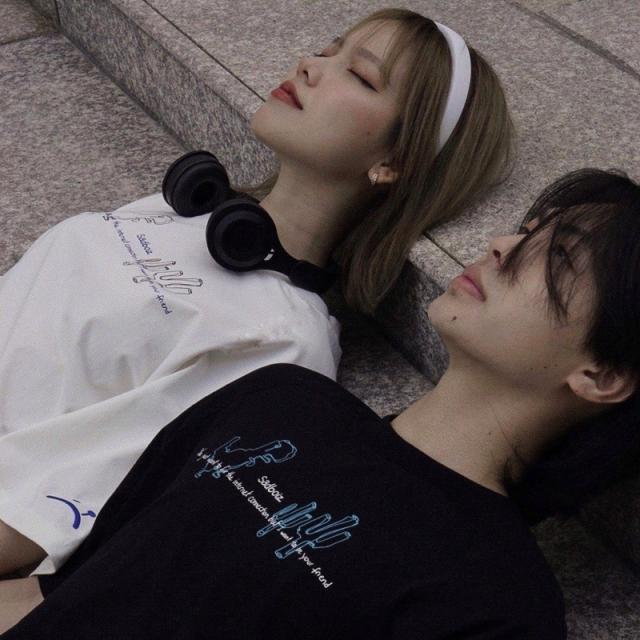Shirt: (3, 175, 337, 557)
